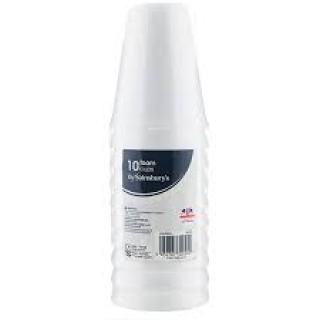PAPER: (106, 1, 208, 310), (108, 0, 206, 127)
